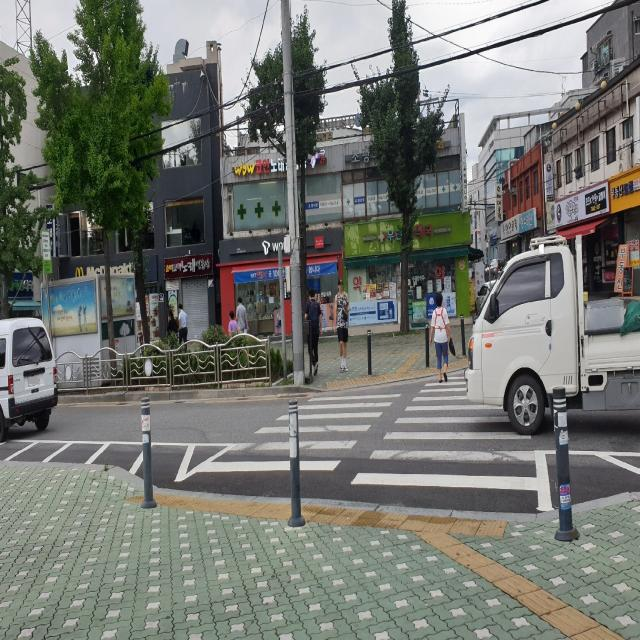횡단보도: (195, 374, 540, 494)
